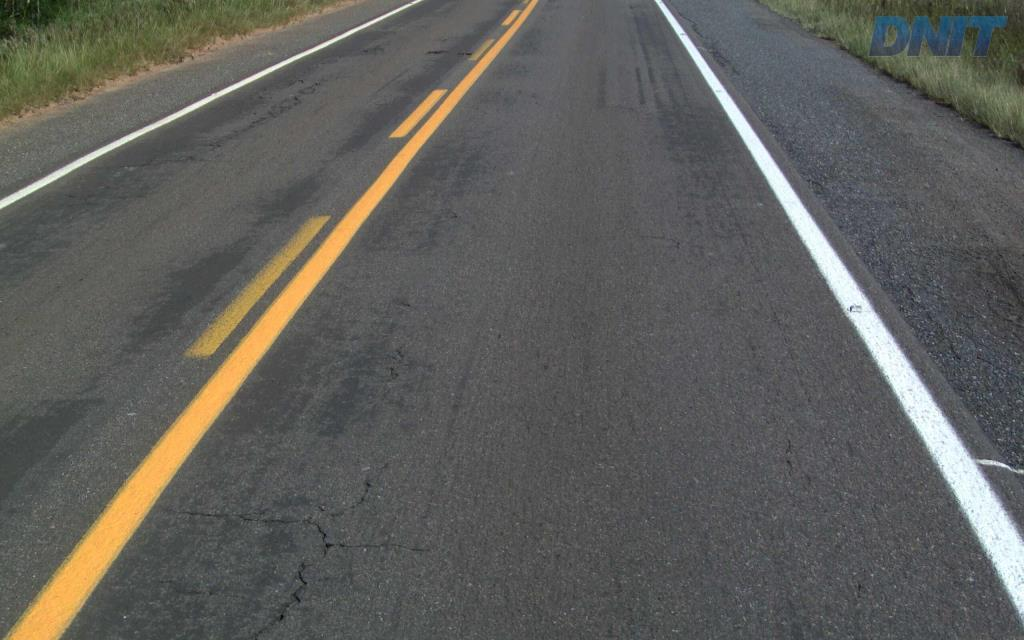crack: (268, 559, 311, 626)
